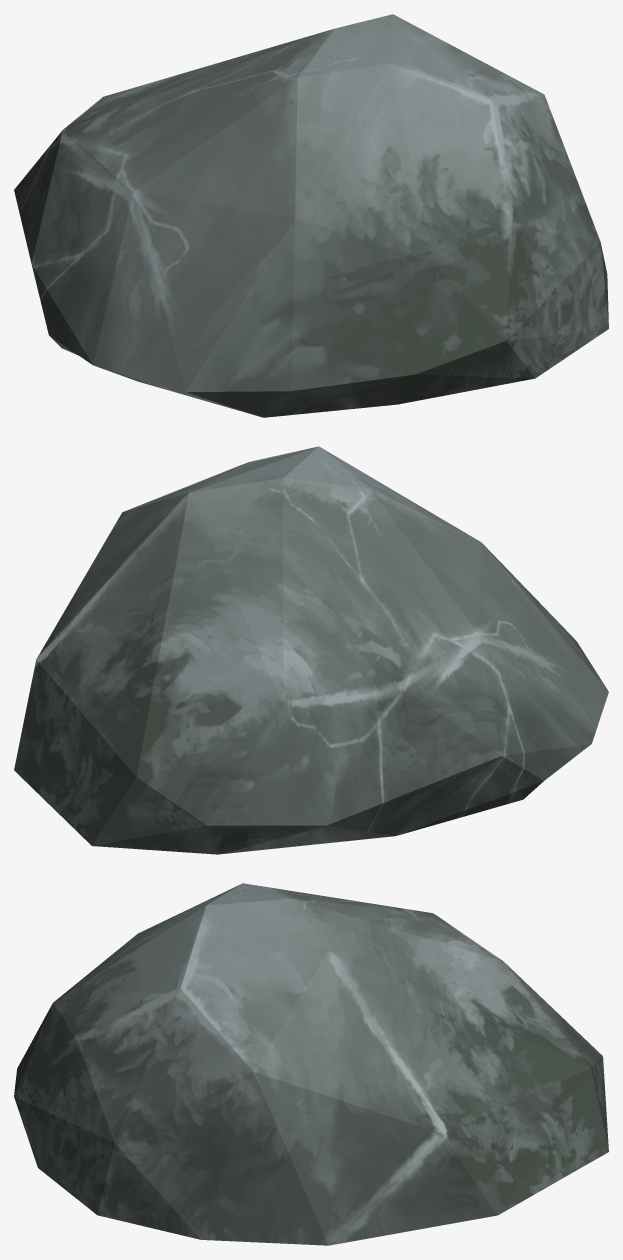
Rendered from glaz_1.obj.
3 views of the same model, one above another, from view 1: azimuth 30°, elevation 25°; view 2: azimuth 150°, elevation 25°; view 3: azimuth 270°, elevation 25° (orthographic). The views are drawn at different scales.
Visible parts, largest first — view 1: rock.007; view 2: rock.007; view 3: rock.007.
Boxes of the visible parts, x1,y1,x2,y2 form: rock.007: (14,14,608,417); rock.007: (14,446,608,854); rock.007: (14,883,608,1245).
Bounding box in the file's own units: 18.77 × 9.13 × 20.39.
Materials: 1 (1 with a texture image).
